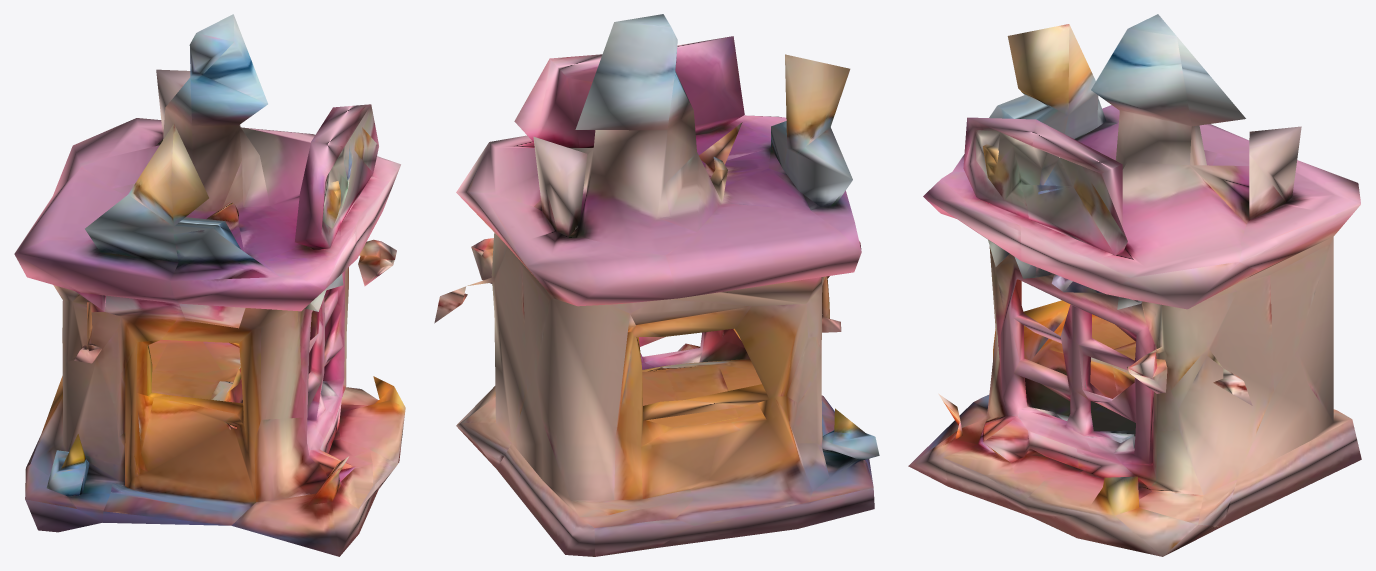
Rendered from bakery.glb.
The picture shows the model from 3 angles, left to right: view 1: azimuth 30°, elevation 25°; view 2: azimuth 150°, elevation 25°; view 3: azimuth 270°, elevation 25°; orthographic projection. The views are drawn at different scales.
Visible parts, largest first — view 1: tripo_node_88e5c1bd-6754-496a-a47b-dffbf6c3591a; view 2: tripo_node_88e5c1bd-6754-496a-a47b-dffbf6c3591a; view 3: tripo_node_88e5c1bd-6754-496a-a47b-dffbf6c3591a.
Part boxes in pixels (x1=…): tripo_node_88e5c1bd-6754-496a-a47b-dffbf6c3591a: x1=14, y1=14, x2=405, y2=556; tripo_node_88e5c1bd-6754-496a-a47b-dffbf6c3591a: x1=434, y1=14, x2=879, y2=556; tripo_node_88e5c1bd-6754-496a-a47b-dffbf6c3591a: x1=908, y1=14, x2=1361, y2=556.
Size of the model in its own units: 0.901 by 0.9695 by 0.8955.
1 material, 1 textured.
